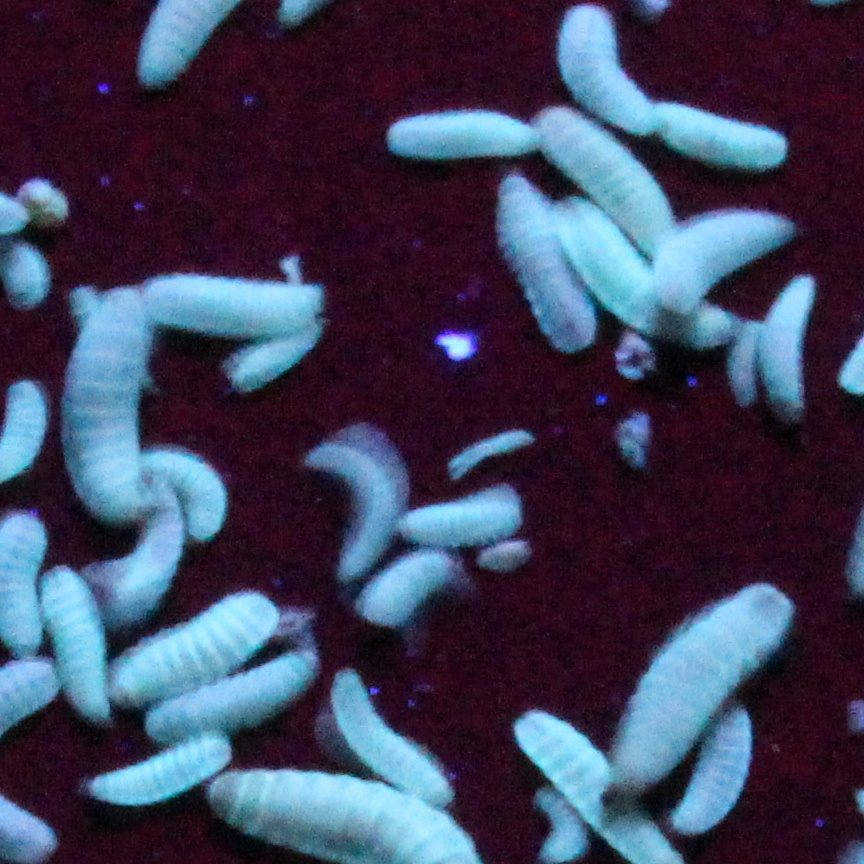larve: (605, 590, 779, 798), (70, 288, 154, 520), (482, 200, 602, 344), (291, 430, 402, 576), (148, 656, 328, 741), (108, 607, 265, 698), (337, 687, 459, 796), (558, 16, 662, 140), (670, 216, 790, 308), (679, 707, 757, 836), (142, 280, 318, 336), (102, 493, 180, 613), (650, 112, 782, 168), (362, 556, 454, 633), (405, 487, 528, 544), (94, 747, 225, 796), (226, 340, 322, 400), (406, 116, 526, 164), (160, 458, 234, 530), (451, 436, 537, 478)
